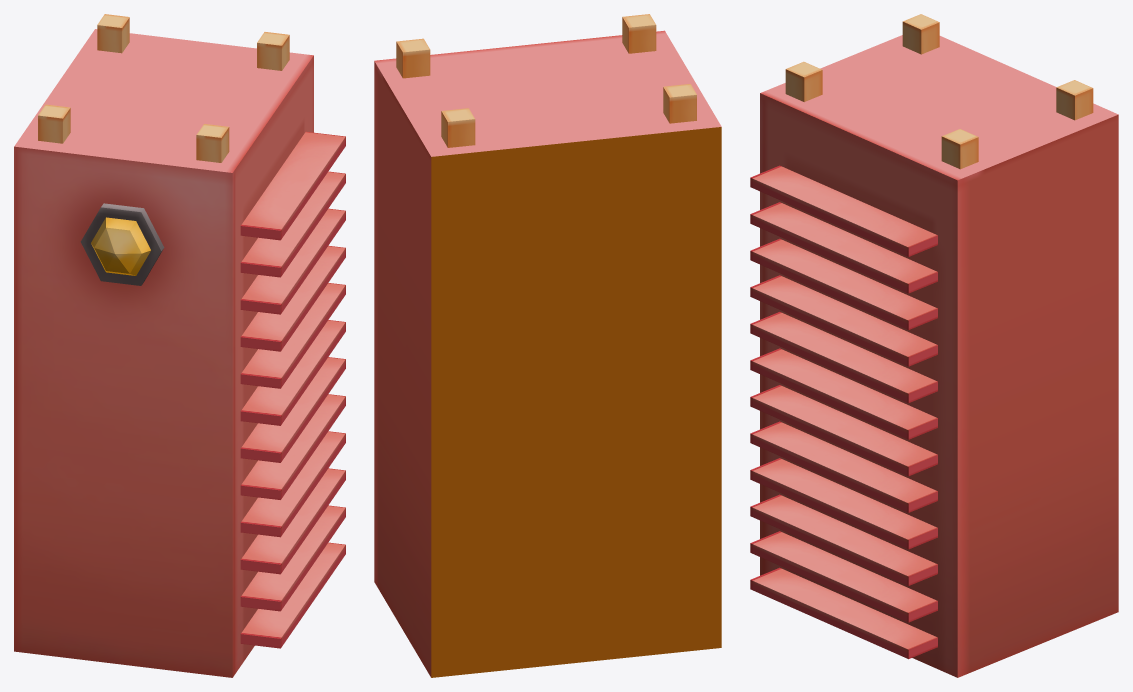
Rendered from Ceshichangji_XiaoYinXiang_01.FBX.
The picture shows the model from 3 angles, left to right: view 1: azimuth 30°, elevation 25°; view 2: azimuth 150°, elevation 25°; view 3: azimuth 270°, elevation 25°; orthographic projection. The views are drawn at different scales.
Parts seen in each view (by area): view 1: Object014; view 2: Object014; view 3: Object014.
Boxes of the visible parts, left/top/right/bottom form: Object014: left=14, top=14, right=345, bottom=677; Object014: left=374, top=14, right=721, bottom=677; Object014: left=750, top=14, right=1118, bottom=677.
Bounding box in the file's own units: 216 × 336 × 215.
